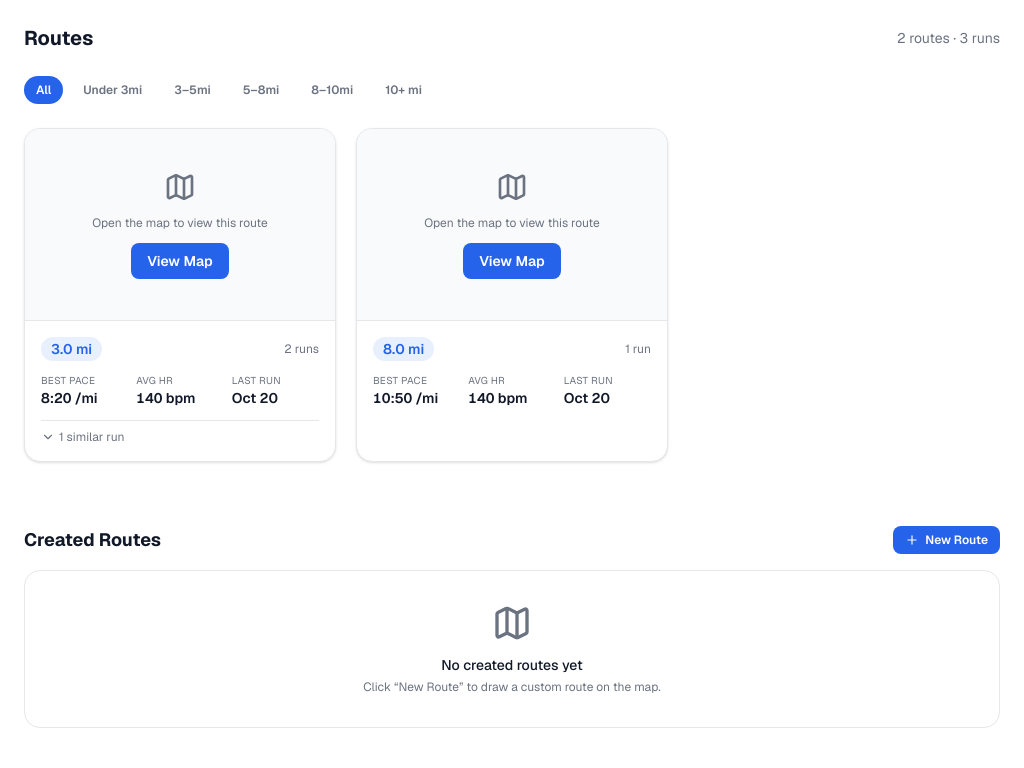
Test: Routes manual map acquisition › shows missing GPS without enabling the map or template
What coordinates should you click on to do the following:
click the 1st button "View Map"
I would click on:
 (180, 260)
Its box is [131,242,229,278].
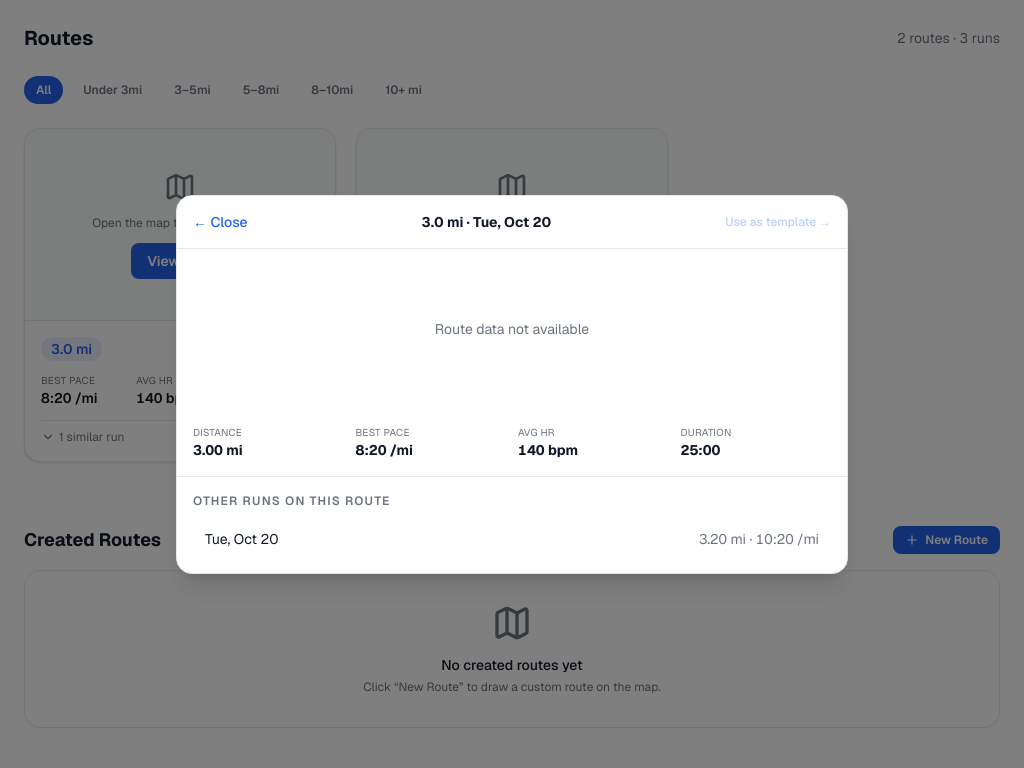
Expected: the text "Route data not available" is shown, [435,318,589,338]
Expected: the button "Use as template →" is disabled, [725,214,831,230]
